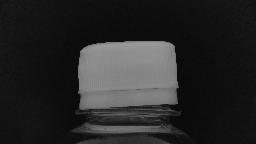Broken Cap: (68, 37, 188, 121)
